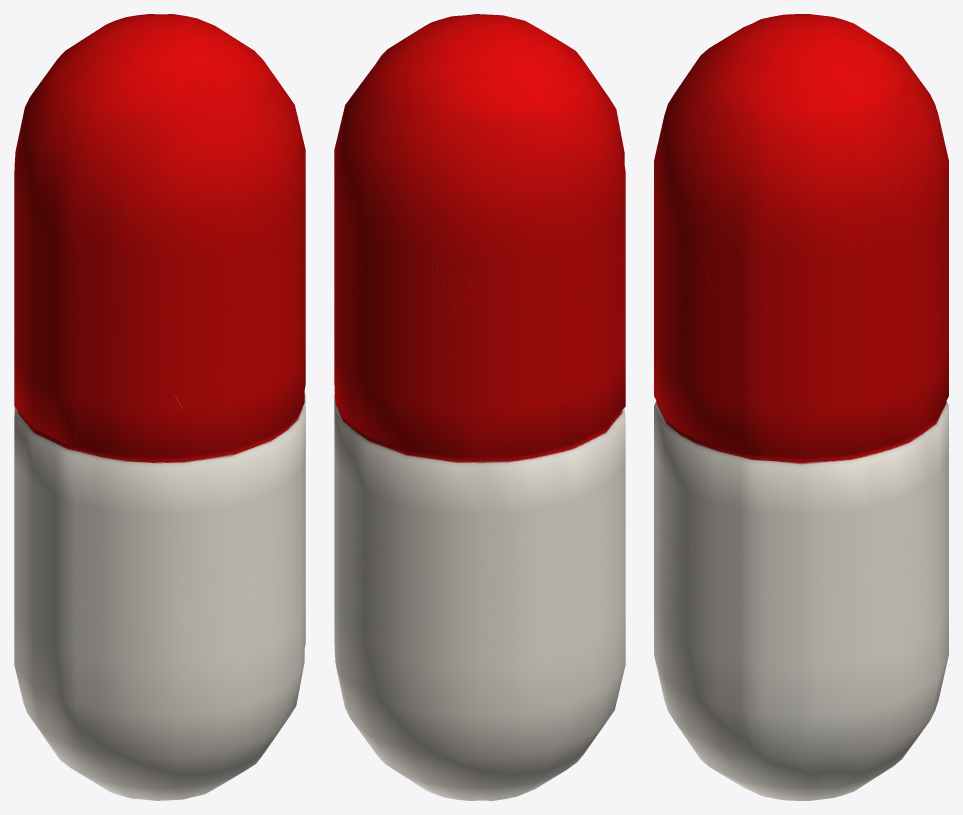
Rendered from Meshy_AI_Red_and_White_Capsule_0617045546_texture.fbx.
3 views of the same model, side by side, from view 1: azimuth 30°, elevation 25°; view 2: azimuth 150°, elevation 25°; view 3: azimuth 270°, elevation 25° (orthographic).
Parts seen in each view (by area): view 1: Mesh_0; view 2: Mesh_0; view 3: Mesh_0.
Part boxes in pixels (x1,y1,x2,y2): Mesh_0: (14, 14, 305, 800); Mesh_0: (334, 14, 625, 800); Mesh_0: (654, 14, 948, 800).
Size of the model in its own units: 66.93 by 191 by 66.93.
1 material, 1 textured.
